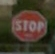stop: (10, 9, 47, 43)
